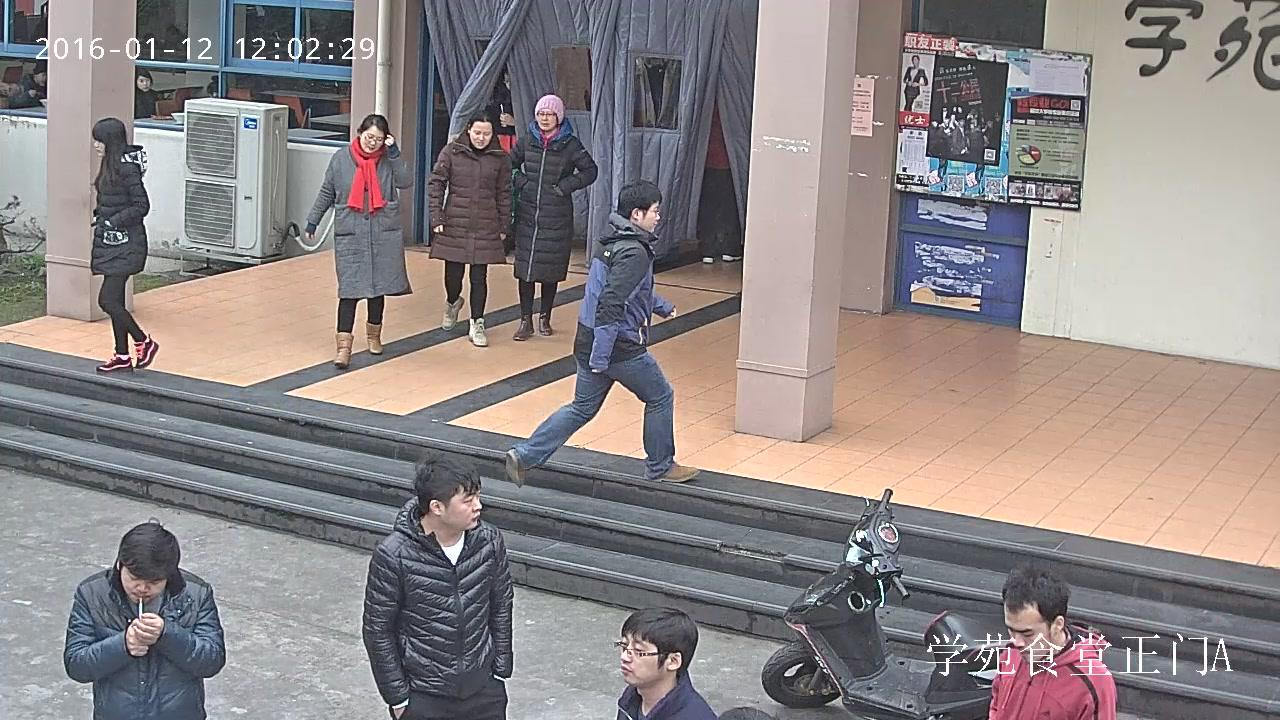person: (505, 177, 699, 485), (361, 452, 514, 720), (64, 524, 226, 720), (306, 114, 413, 367), (513, 95, 598, 340), (427, 112, 511, 346), (989, 565, 1116, 719), (91, 117, 158, 371), (615, 604, 720, 719), (9, 61, 47, 107), (133, 68, 160, 116), (904, 55, 927, 111)
